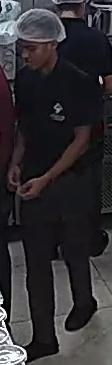no_apron: (15, 59, 98, 179)
